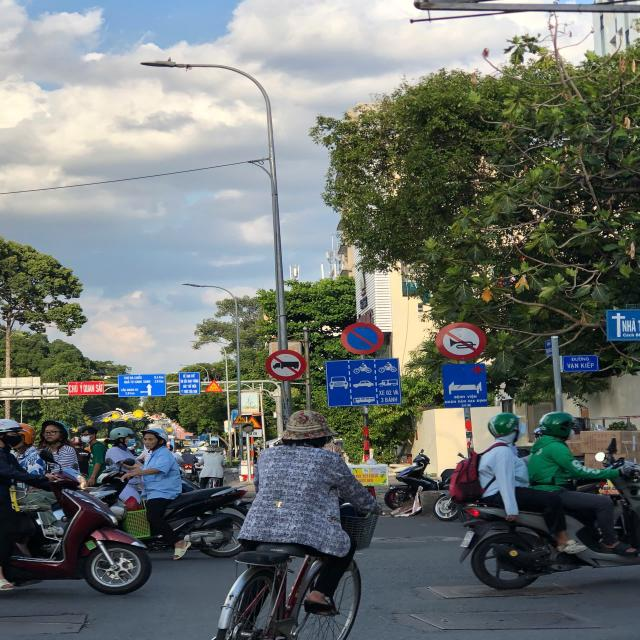Bien bao cam do xe: (336, 320, 387, 358)
Bien bao cam xe so-mi ro-mooc: (259, 346, 312, 383)
